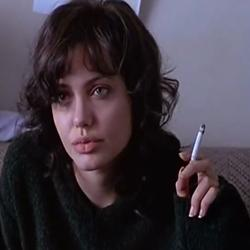smoking: (176, 121, 222, 220)
